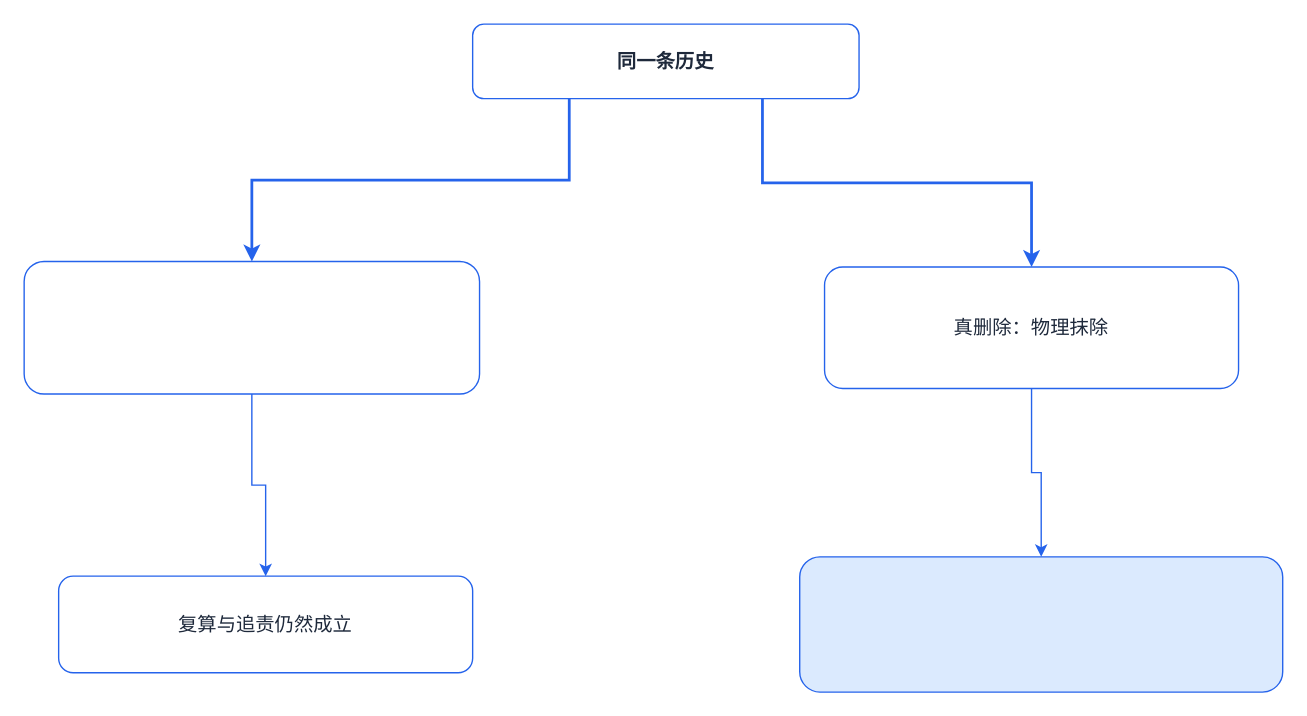
This 1307x716 diagram has some shape labels left out. The centre of each missing label's shape, as x and y in pixels:
"⚠ resume / fork / replay 全部失去确定性基础" goes at (1040,623).
"投影 replace：原文入影子区 界面可翻、审计可回放" goes at (251,327).
